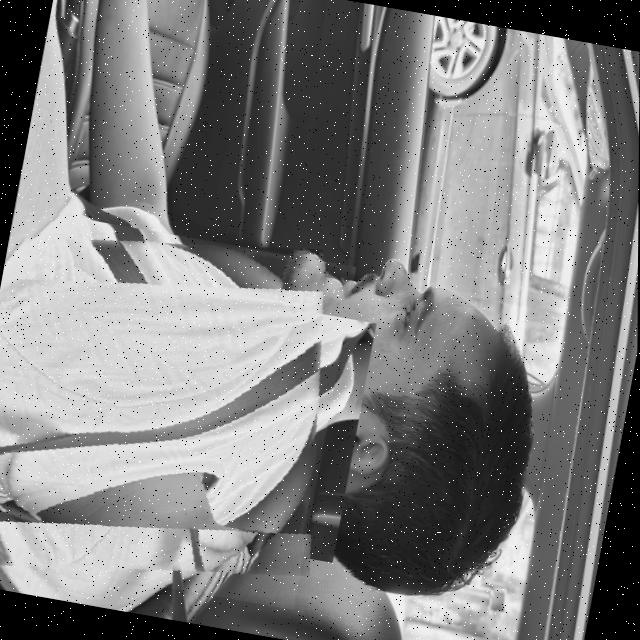seatbelt: (0, 206, 356, 609)
